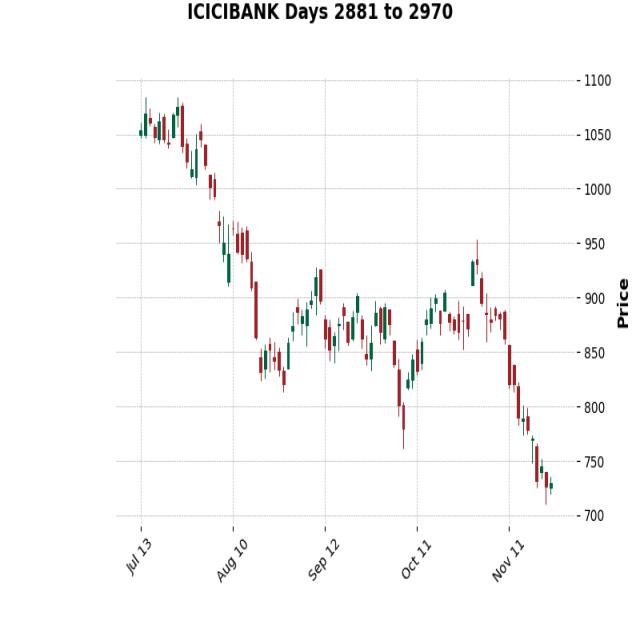Symmetric Triangle: (274, 261, 398, 403)
